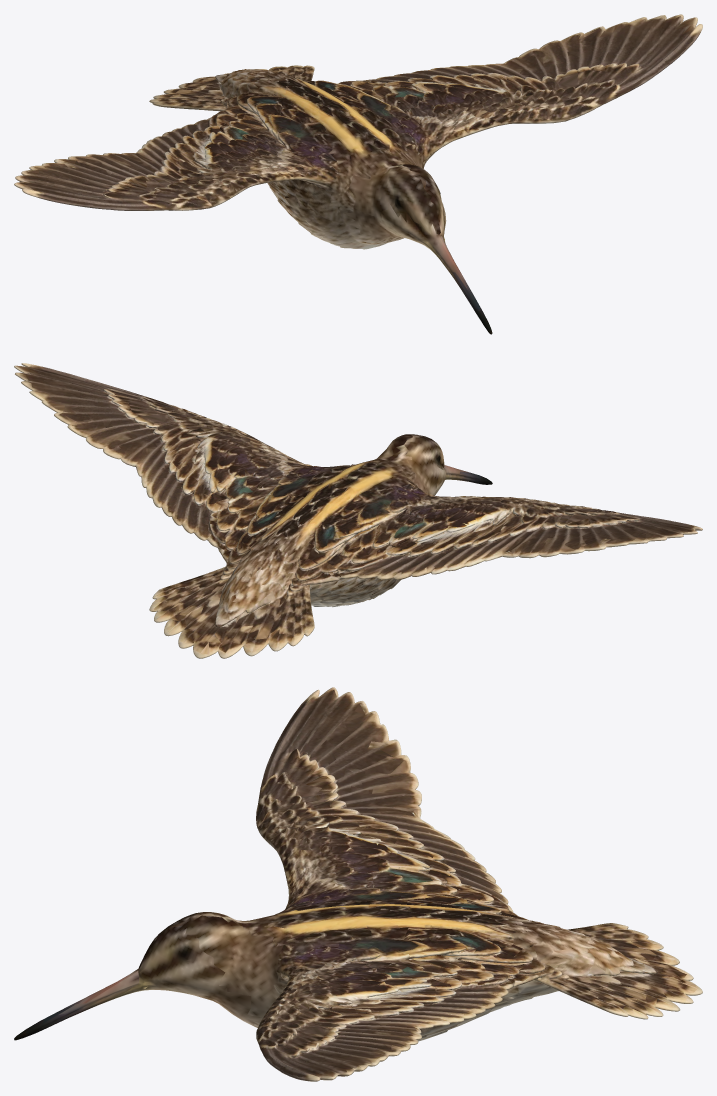
File: Lymnocryptes_minimus.glb
3 views of the same model, one above another, from view 1: azimuth 30°, elevation 25°; view 2: azimuth 150°, elevation 25°; view 3: azimuth 270°, elevation 25° (orthographic). The views are drawn at different scales.
Parts seen in each view (by area): view 1: orient; view 2: orient; view 3: orient.
Boxes of the visible parts, box(x1,y1,x2,y2) form: orient: box(14, 14, 702, 334); orient: box(14, 363, 702, 658); orient: box(14, 687, 702, 1081).
Size of the model in its own units: 0.5001 by 0.0994 by 0.3722.
1 material, 1 textured.
